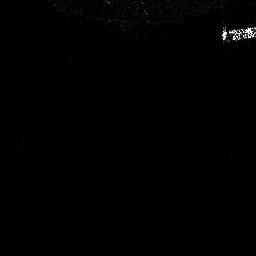ship: (221, 24, 256, 42)
